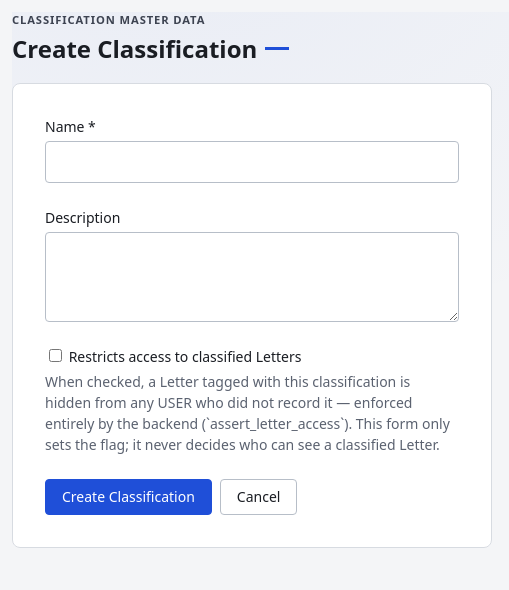
Test: ClassificationCreatePage › requires a name before submitting
What coordinates should you click on to do the following:
click the button "Create Classification"
I would click on:
 (128, 497)
Its box is [45,479,212,515].
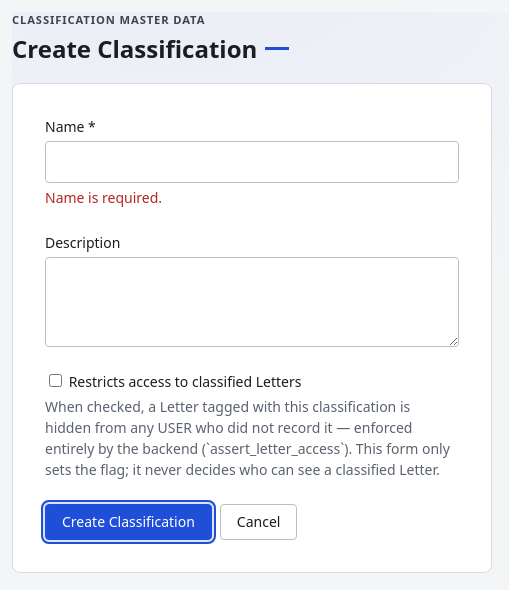
Now the text "Name is required." is shown, box [45,188,162,207]
